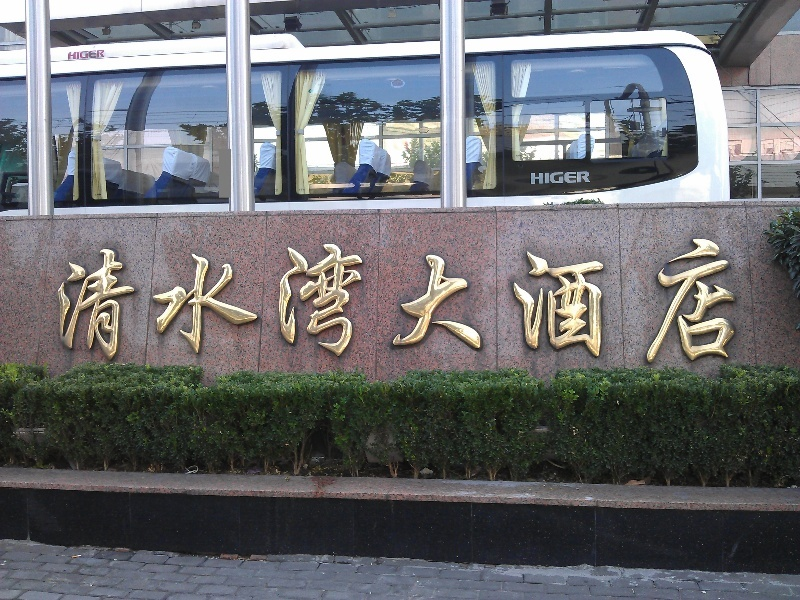text: (65, 233, 80, 365), (81, 233, 96, 365), (97, 233, 112, 365), (113, 233, 128, 365), (129, 233, 144, 365), (145, 233, 160, 365), (161, 233, 176, 365), (177, 233, 192, 365), (193, 233, 208, 365), (209, 233, 224, 365), (225, 233, 240, 365), (241, 233, 256, 365), (257, 233, 272, 365), (273, 233, 288, 365), (289, 233, 304, 365), (305, 233, 320, 365), (321, 233, 336, 365), (337, 233, 352, 365), (353, 233, 368, 365), (369, 233, 384, 365), (385, 233, 400, 365), (401, 233, 416, 365), (417, 233, 432, 365), (433, 233, 448, 365), (449, 233, 464, 365), (465, 233, 480, 365), (481, 233, 496, 365), (497, 233, 512, 365), (513, 233, 528, 365), (529, 233, 544, 365), (545, 233, 560, 365), (561, 233, 576, 365), (577, 233, 592, 365), (593, 233, 608, 365), (609, 233, 624, 365), (625, 233, 640, 365), (641, 233, 656, 365), (657, 233, 672, 365), (673, 233, 688, 365), (689, 233, 704, 365), (705, 233, 720, 365), (721, 233, 736, 365), (61, 233, 64, 365), (737, 233, 739, 365), (545, 171, 560, 185), (561, 171, 576, 185), (577, 171, 591, 185), (531, 171, 544, 185), (81, 50, 96, 61), (69, 50, 80, 61), (97, 50, 105, 61)
